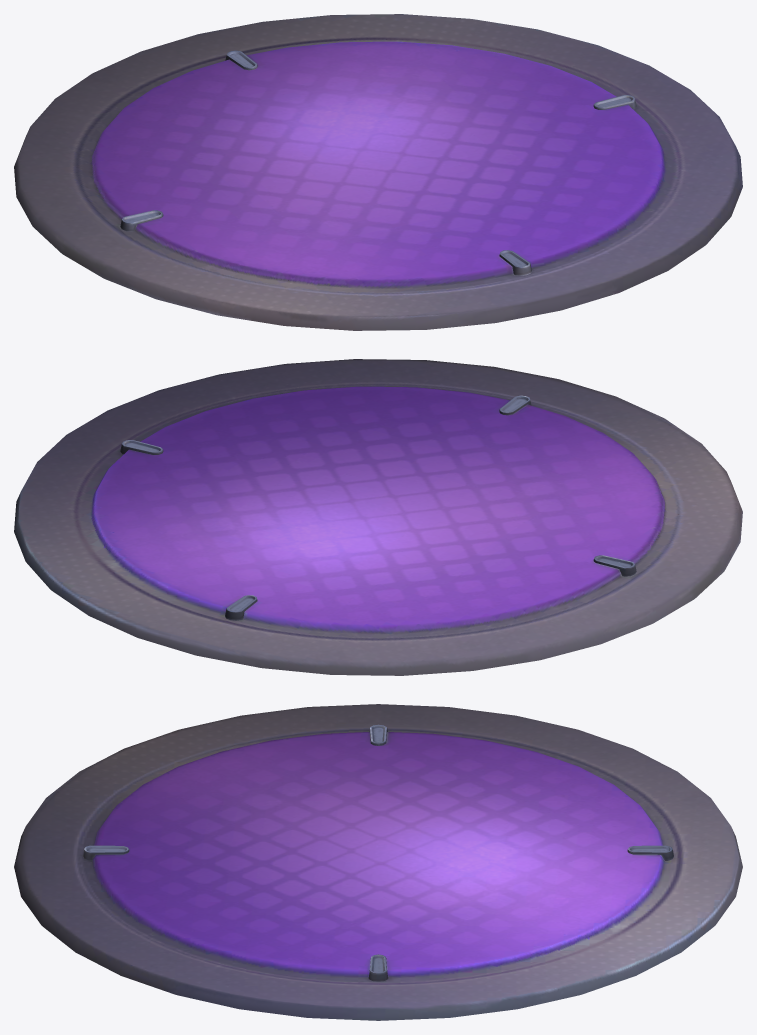
Rendered from pref_fx_NeutralScoreArea03_purple_floor_lv1.fbx.
The picture shows the model from 3 angles, top to bottom: view 1: azimuth 30°, elevation 25°; view 2: azimuth 150°, elevation 25°; view 3: azimuth 270°, elevation 25°; orthographic projection.
Parts seen in each view (by area): view 1: sm_prop_platform06a_lv1; view 2: sm_prop_platform06a_lv1; view 3: sm_prop_platform06a_lv1.
Boxes of the visible parts, x1,y1,x2,y2 form: sm_prop_platform06a_lv1: (14, 14, 742, 330); sm_prop_platform06a_lv1: (14, 359, 742, 675); sm_prop_platform06a_lv1: (14, 704, 742, 1020).
Size of the model in its own units: 7.46 by 0.2009 by 7.46.
